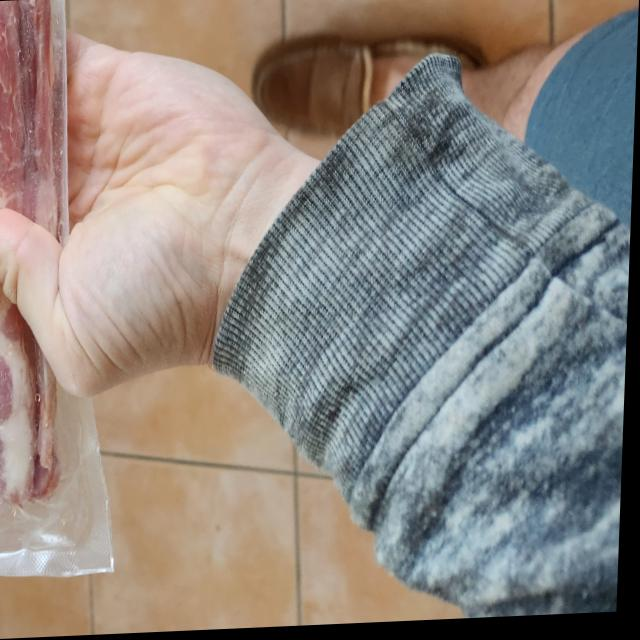bacon: (0, 0, 115, 640)
